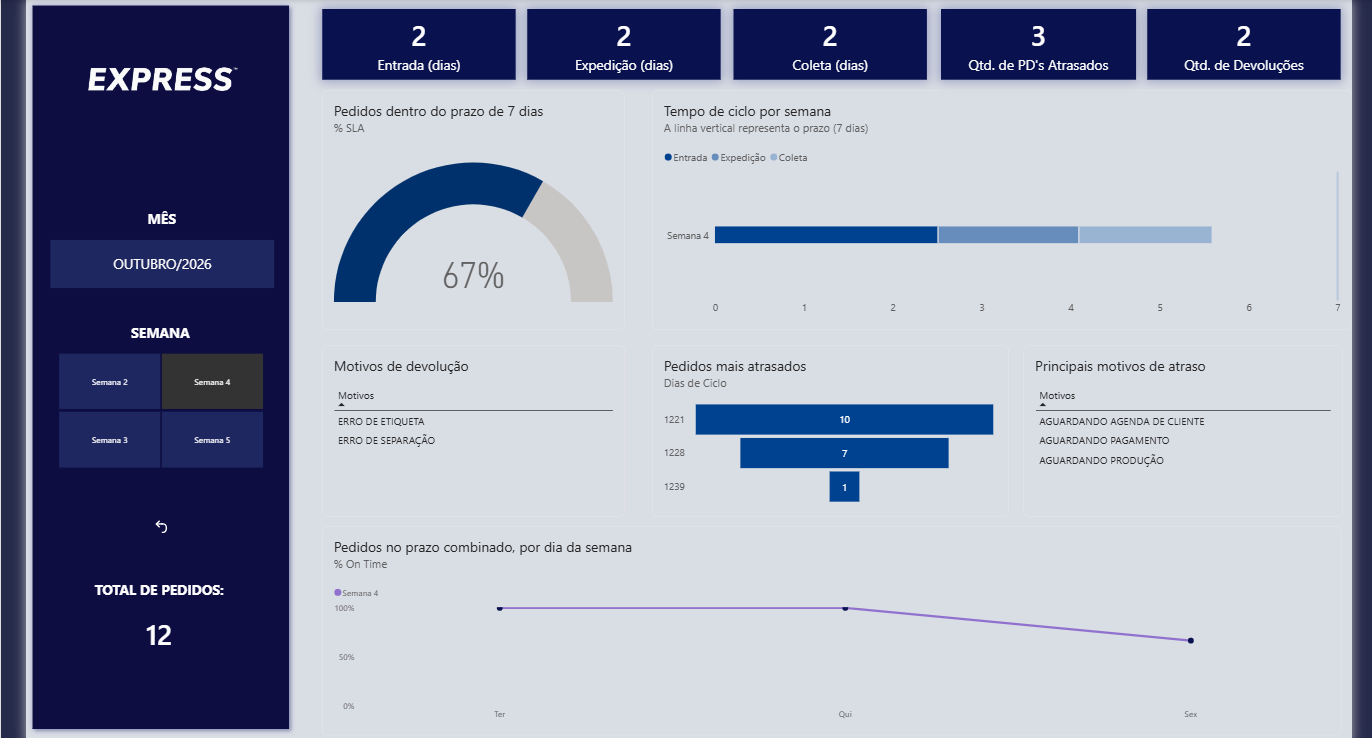

Layout of this report page (visuals, bound fields, positions):
{"tool":"powerbi","page":{"name":"Página 1","canvas":[1920,1080],"ordinal":0},"visuals":[{"type":"shape","box":[0,0,390,1066],"z":0},{"type":"card","fields":{"Values":["_Medidas.Tempo de Processo de Entrada"]},"box":[428,14,280,102],"z":1000},{"type":"card","fields":{"Values":["_Medidas.QTD Devoluções"]},"box":[1624,14,280,102],"z":2000},{"type":"card","fields":{"Values":["_Medidas.Tempo de Expedição"]},"box":[726,14,280,102],"z":3000},{"type":"card","title":"TOTAL DE PEDIDOS:","fields":{"Values":["_Medidas.QTD PDs do Mês"]},"box":[48.9,841.5,288,114],"z":4000},{"type":"card","fields":{"Values":["_Medidas.Tempo de Coleta"]},"box":[1024,14,280,102],"z":5000},{"type":"gauge","title":"Pedidos dentro do prazo de 7 dias","fields":{"Y":["_Medidas.% SLA"]},"box":[428.9,132.1,437.9,347.5],"z":6000},{"type":"lineChart","title":"Pedidos no prazo combinado, por dia da semana","fields":{"Category":["fExpedicao.Dia da Semana (Saída)"],"Series":["fExpedicao.Semana do Mês (p Saída)"],"Y":["_Medidas.% On Time"]},"box":[428.9,763.7,1474.9,302.2],"z":7000},{"type":"barChart","title":"Tempo de ciclo por semana","fields":{"Category":["fExpedicao.Semana do Mês (p Saída)"],"Y":["_Medidas.Dias Entrada (média)","_Medidas.Dias Expedição (base)","_Medidas.Dias Coleta (base)"]},"box":[906.6,132.1,1013.4,347.5],"z":8000},{"type":"slicer","title":"MÊS","fields":{"Values":["fExpedicao.MÊS"]},"box":[14,304,364,116],"z":9000},{"type":"slicer","title":"SEMANA","fields":{"Values":["fExpedicao.Semana do Mês (p Saída)"]},"box":[27.1,468.7,334.8,211.7],"z":10000},{"type":"card","fields":{"Values":["_Medidas.QTD Pedidos Atrasados"]},"box":[1324,14,282,102],"z":12000},{"type":"tableEx","title":"Motivos de devolução","fields":{"Values":["fExpedicao.DEVOLUÇÃO"]},"box":[428.9,501.3,438,248],"z":13000},{"type":"tableEx","title":"Principais motivos de atraso","fields":{"Values":["fExpedicao.ATRASO"]},"box":[1444.1,501.3,462,248],"z":14000},{"type":"funnel","title":"Pedidos mais atrasados","fields":{"Category":["fExpedicao.ID PEDIDO"],"Y":["_Medidas.Dias de Ciclo (atrasados)"]},"box":[906.6,501.3,515.9,248.5],"z":15000},{"type":"actionButton","title":"Redefinir","box":[141.2,705.8,110,116],"z":16000},{"type":"image","box":[0,34.4,390.9,162.9],"z":16001}]}

Visuals, with their boxes in screenshot pixels (x1, y1, x2, y2):
shape: 14, 0, 287, 737
card - _Medidas.Tempo de Processo de Entrada: 314, 3, 510, 74
card - _Medidas.QTD Devoluções: 1151, 3, 1347, 74
card - _Medidas.Tempo de Expedição: 523, 3, 719, 74
"TOTAL DE PEDIDOS:" card: 49, 582, 250, 662
card - _Medidas.Tempo de Coleta: 731, 3, 927, 74
"Pedidos dentro do prazo de 7 dias" gauge: 315, 85, 621, 329
"Pedidos no prazo combinado, por dia da semana" lineChart: 315, 528, 1347, 737
"Tempo de ciclo por semana" barChart: 649, 85, 1359, 329
"MÊS" slicer: 24, 206, 279, 287
"SEMANA" slicer: 33, 321, 268, 469
card - _Medidas.QTD Pedidos Atrasados: 941, 3, 1139, 74
"Motivos de devolução" tableEx: 315, 344, 621, 517
"Principais motivos de atraso" tableEx: 1025, 344, 1349, 517
"Pedidos mais atrasados" funnel: 649, 344, 1010, 518
"Redefinir" actionButton: 113, 487, 190, 568
image: 14, 17, 288, 131
